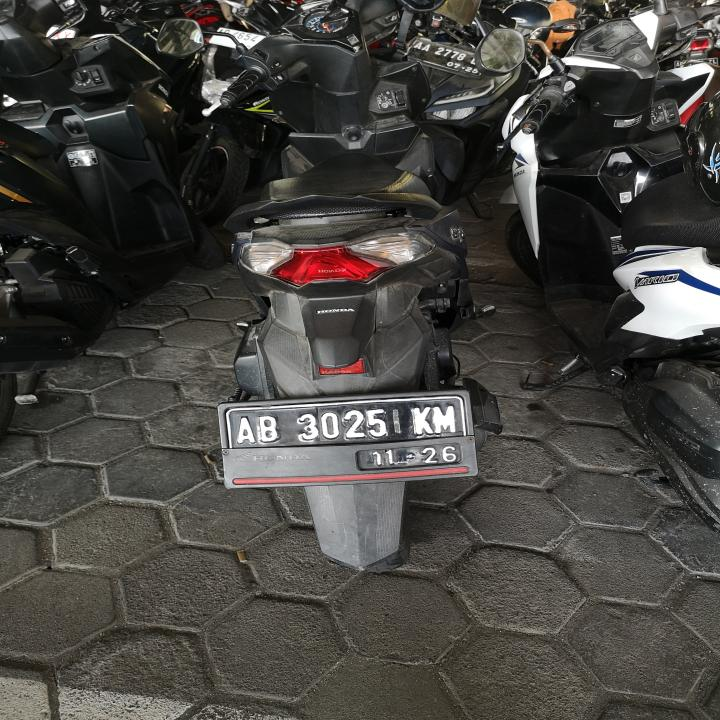plate: (224, 393, 472, 480), (405, 37, 485, 78)
